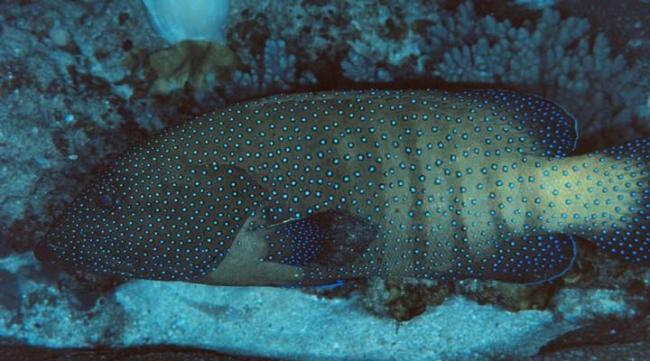fish: (34, 86, 650, 288)
